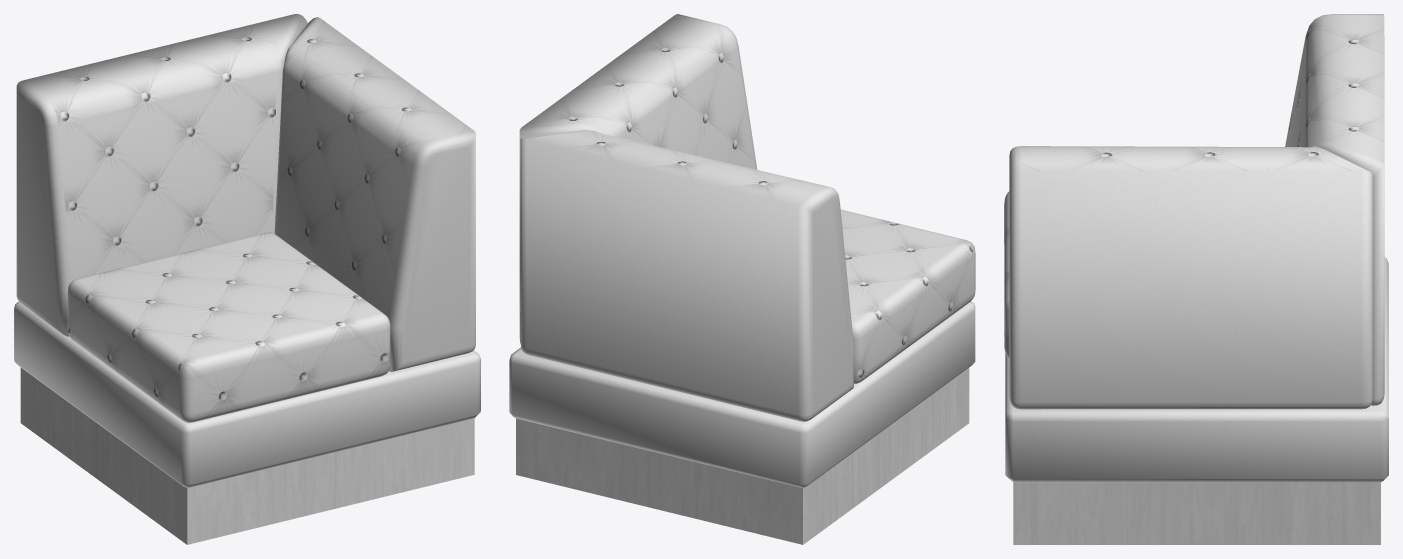
Rendered from Sofa03_2.FBX.
3 renders of one model, left to right at view 1: azimuth 30°, elevation 25°; view 2: azimuth 150°, elevation 25°; view 3: azimuth 270°, elevation 25°, orthographic. The views are drawn at different scales.
Visible parts, largest first — view 1: Sofa03_2; view 2: Sofa03_2; view 3: Sofa03_2.
Boxes of the visible parts, x1=… form: Sofa03_2: x1=14, y1=14, x2=480, y2=544; Sofa03_2: x1=509, y1=14, x2=975, y2=544; Sofa03_2: x1=1004, y1=14, x2=1388, y2=544.
Bounding box in the file's own units: 109 × 118 × 110.
